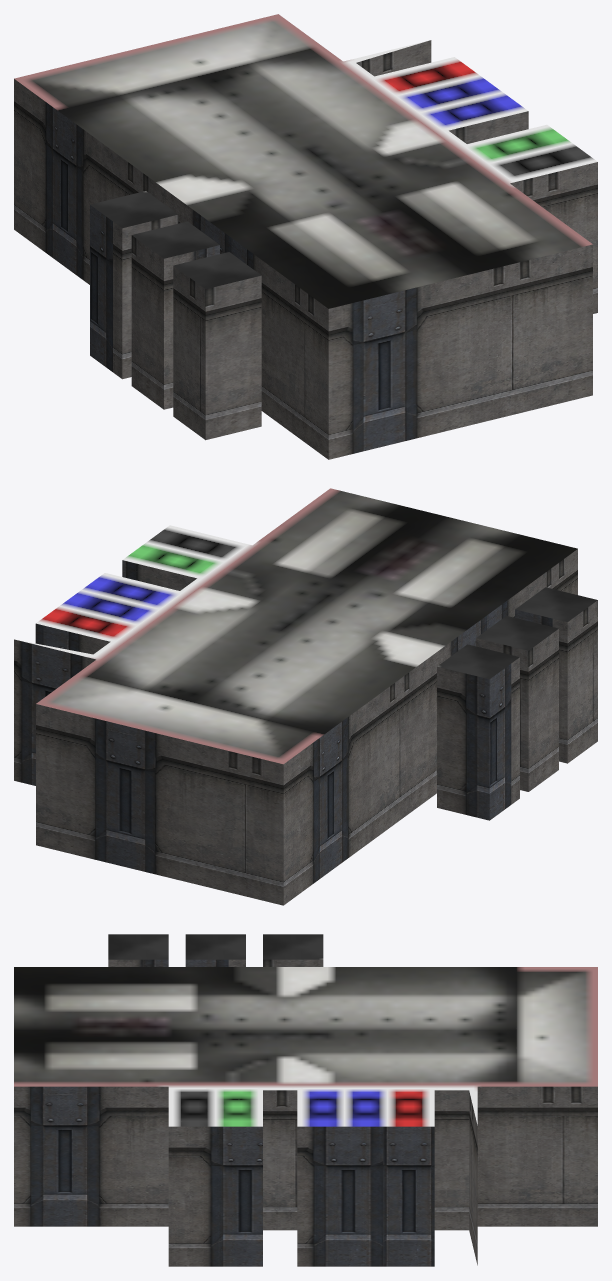
File: BuildingSystem-03-Advance-03-Heavy-4-68-01.glb
3 views of the same model, one above another, from view 1: azimuth 30°, elevation 25°; view 2: azimuth 150°, elevation 25°; view 3: azimuth 270°, elevation 25° (orthographic). The views are drawn at different scales.
Visible parts, largest first — view 1: buildings/saxarba/SMV_Buildings/BuildingSystem-03-Advance-03; view 2: buildings/saxarba/SMV_Buildings/BuildingSystem-03-Advance-03; view 3: buildings/saxarba/SMV_Buildings/BuildingSystem-03-Advance-03.
Boxes of the visible parts, x1,y1,x2,y2 form: buildings/saxarba/SMV_Buildings/BuildingSystem-03-Advance-03: (14, 14, 597, 459); buildings/saxarba/SMV_Buildings/BuildingSystem-03-Advance-03: (14, 488, 597, 905); buildings/saxarba/SMV_Buildings/BuildingSystem-03-Advance-03: (14, 934, 597, 1266).
Size of the model in its own units: 53 by 18 by 68.
